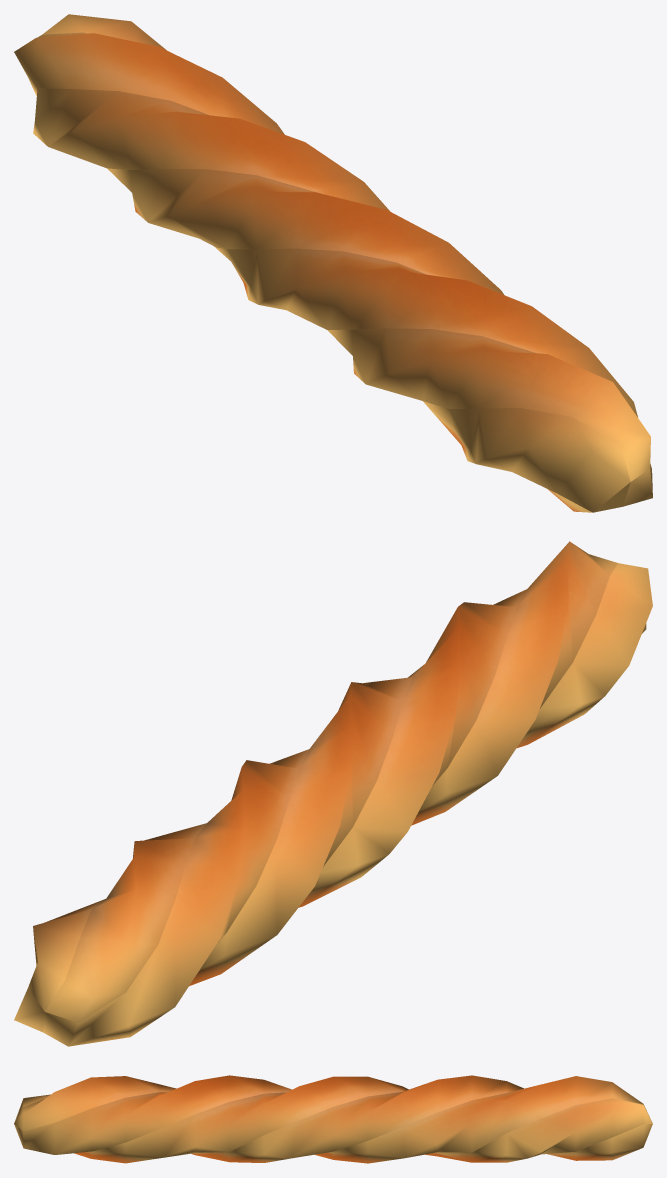
The model's file is Breadstick_Twist.fbx.
3 views of the same model, one above another, from view 1: azimuth 30°, elevation 25°; view 2: azimuth 150°, elevation 25°; view 3: azimuth 270°, elevation 25° (orthographic). The views are drawn at different scales.
Visible parts, largest first — view 1: Breadstick_Twist; view 2: Breadstick_Twist; view 3: Breadstick_Twist.
Part boxes in pixels (x1,y1,x2,y2): Breadstick_Twist: (14,14,652,512); Breadstick_Twist: (14,541,652,1046); Breadstick_Twist: (14,1075,652,1163).
Bounding box in the file's own units: 11.11 × 9.83 × 75.35.
